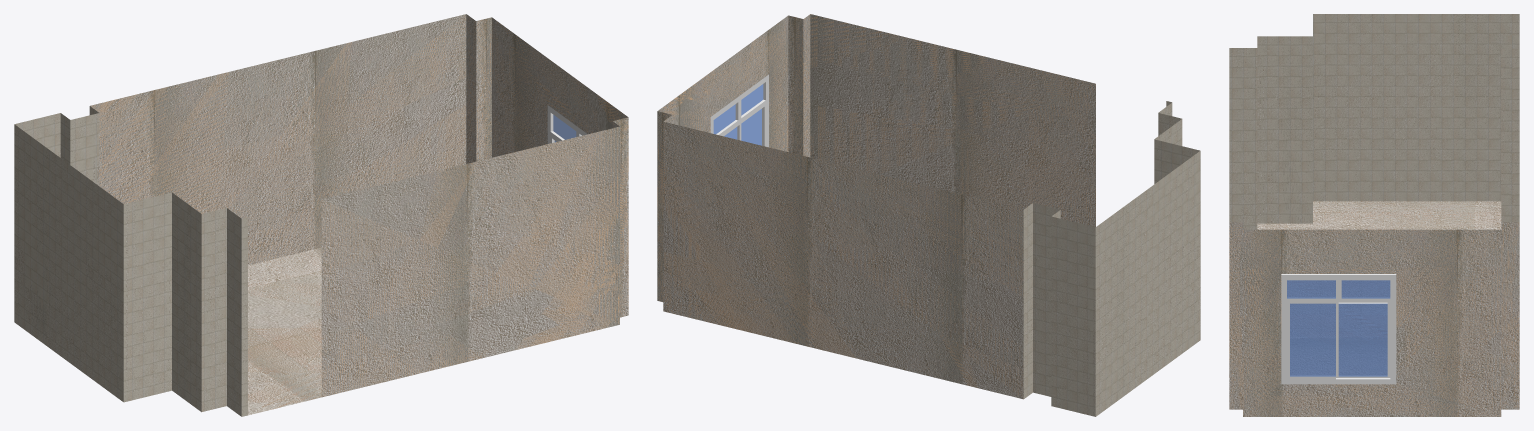
The model's file is CUA033.obj.
3 views of the same model, side by side, from view 1: azimuth 30°, elevation 25°; view 2: azimuth 150°, elevation 25°; view 3: azimuth 270°, elevation 25° (orthographic). The views are drawn at different scales.
Parts seen in each view (by area): view 1: Mesh7 CUA033 Model, Mesh1 Group1 CUA033 Model; view 2: Mesh7 CUA033 Model, Mesh1 Group1 CUA033 Model; view 3: Mesh7 CUA033 Model, Mesh1 Group1 CUA033 Model.
Part boxes in pixels (bbox=[...]): Mesh7 CUA033 Model: bbox=[14, 14, 628, 416]; Mesh1 Group1 CUA033 Model: bbox=[547, 105, 587, 143]; Mesh7 CUA033 Model: bbox=[657, 14, 1200, 416]; Mesh1 Group1 CUA033 Model: bbox=[710, 74, 768, 147]; Mesh7 CUA033 Model: bbox=[1229, 14, 1519, 416]; Mesh1 Group1 CUA033 Model: bbox=[1281, 274, 1396, 384].
Size of the model in its own units: 8.94 by 3.6 by 5.06.
6 materials, 3 textured.
